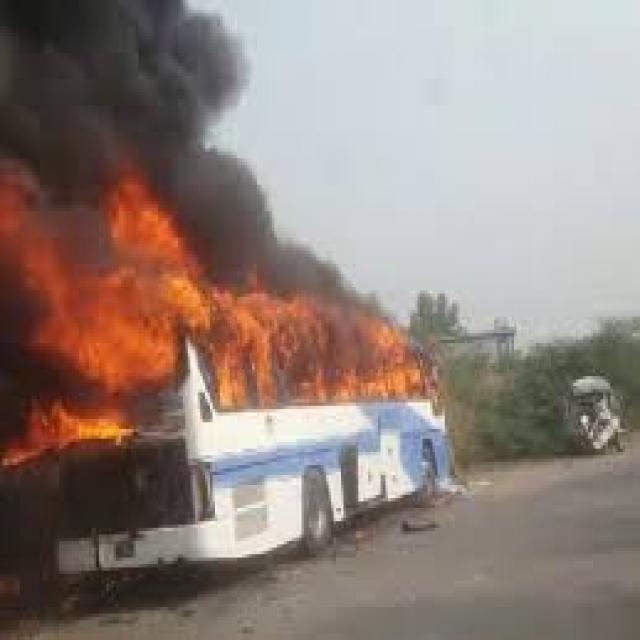fire: (3, 165, 205, 393), (205, 290, 440, 406), (5, 399, 143, 465)
smoke: (210, 3, 353, 287), (2, 3, 257, 162)
